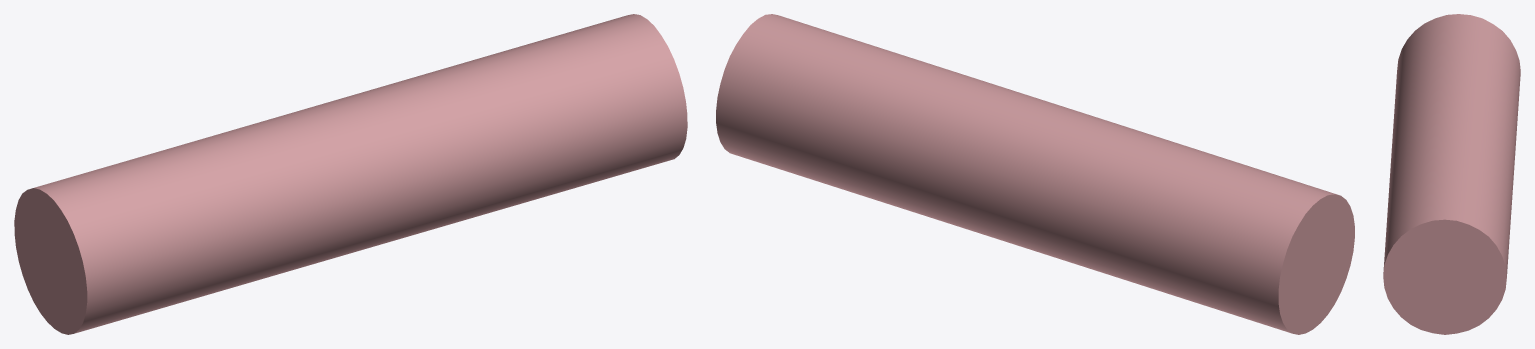
Rendered from fma53135-l_mm2135.glb.
3 views of the same model, side by side, from view 1: azimuth 30°, elevation 25°; view 2: azimuth 150°, elevation 25°; view 3: azimuth 270°, elevation 25° (orthographic). The views are drawn at different scales.
Visible parts, largest first — view 1: FMA53135-L_MM2135; view 2: FMA53135-L_MM2135; view 3: FMA53135-L_MM2135.
Boxes of the visible parts, x1,y1,x2,y2 form: FMA53135-L_MM2135: (14, 14, 687, 334); FMA53135-L_MM2135: (716, 14, 1354, 334); FMA53135-L_MM2135: (1383, 14, 1520, 334).
Size of the model in its own units: 0.0102 by 0.00281 by 0.00248.
